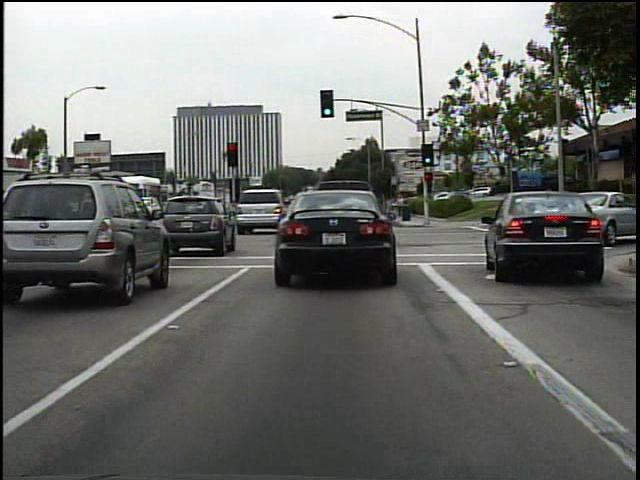person: (396, 191, 406, 220)
